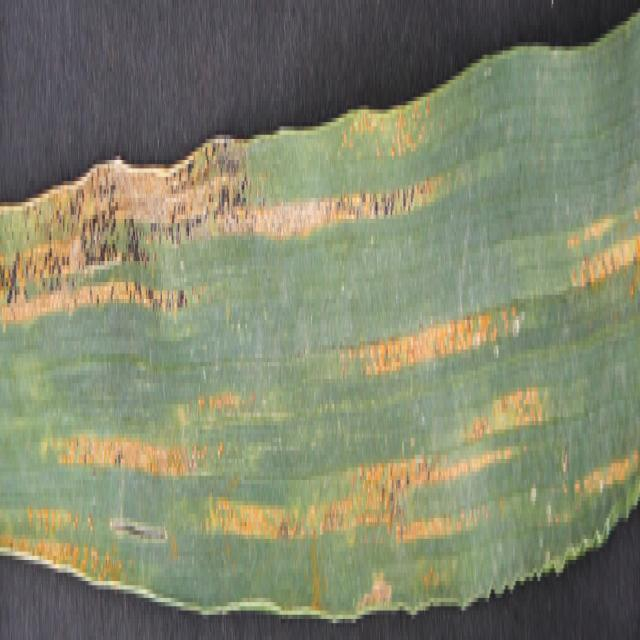leaf rust: (1, 143, 636, 606)
